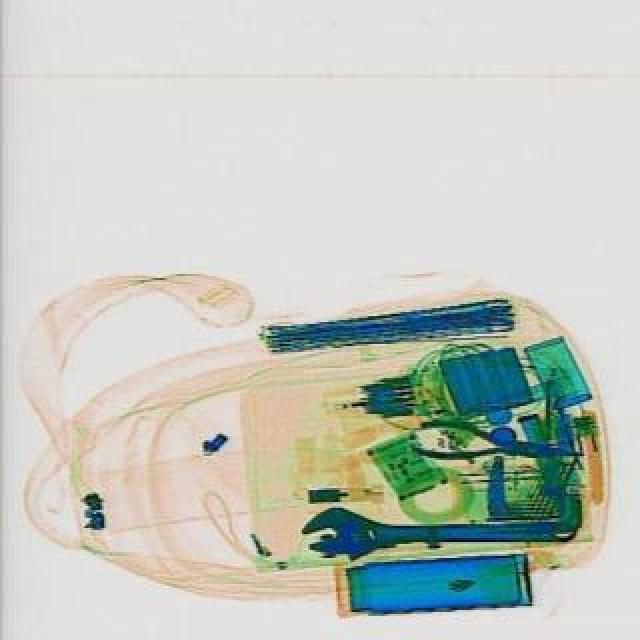scissors: (296, 504, 572, 560)
wrench: (406, 412, 584, 476)
